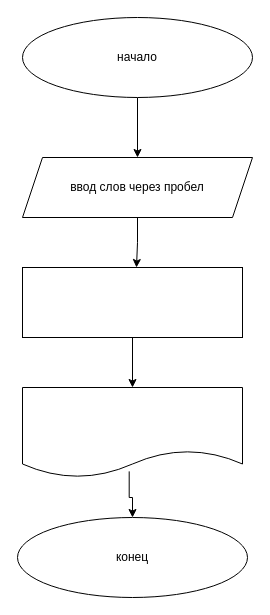
Some shapes in this 270 by 615 pixel diagram are drawn without their labels. The box of each missing label's shape, as (x1, y1, x2, y2) in pixels:
вывод слов которые меньше или равны 3 символам: (22, 386, 242, 478)
поиск слов, которые меньше или равны 3 символам: (22, 266, 242, 338)
